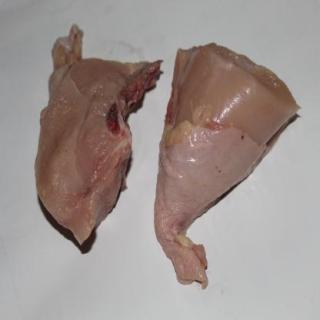Ayam: (155, 46, 301, 288), (39, 26, 163, 248)
